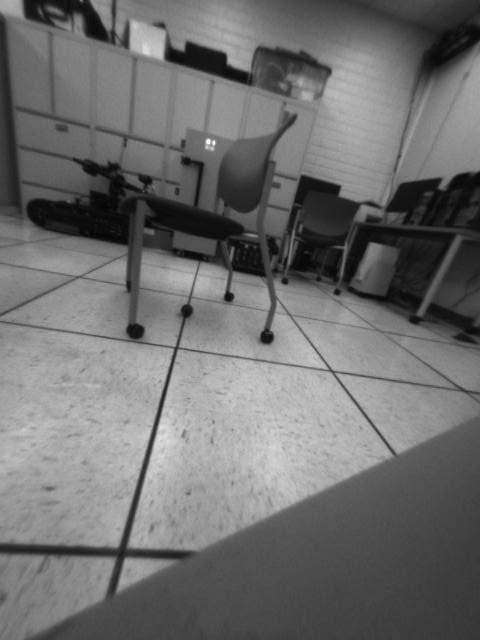dogtoy: (174, 296, 203, 322)
